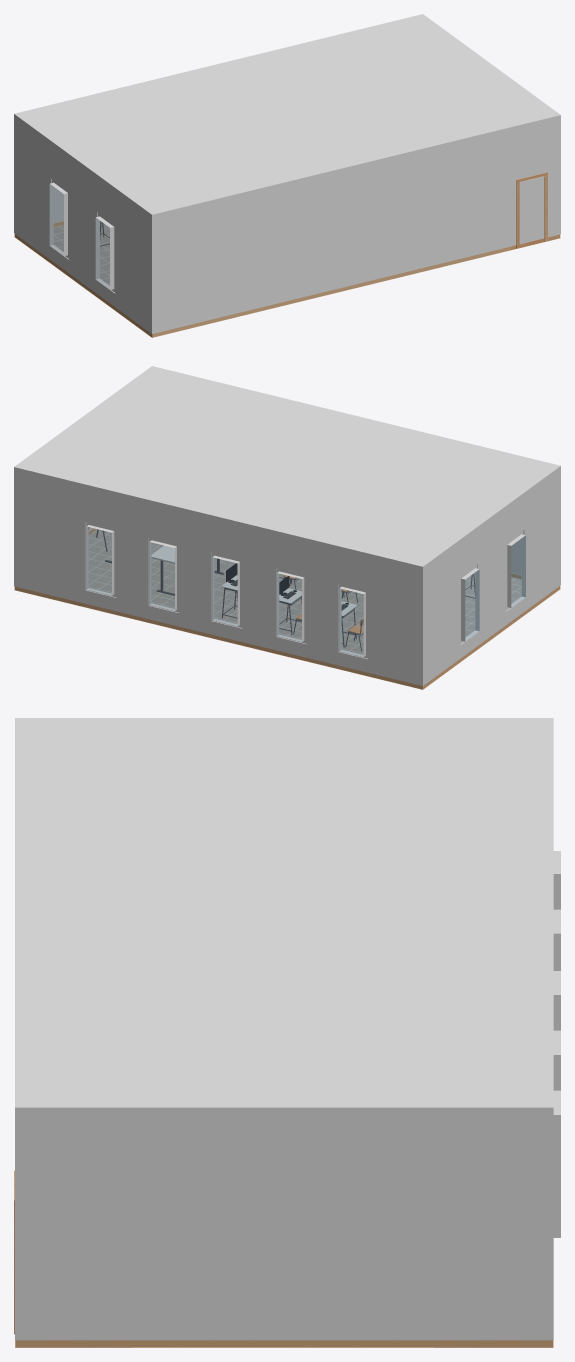
File: laboratorio.glb
3 renders of one model, top to bottom at view 1: azimuth 30°, elevation 25°; view 2: azimuth 150°, elevation 25°; view 3: azimuth 270°, elevation 25°, orthographic. The views are drawn at different scales.
Visible parts, largest first — view 1: Soffitto, Porta, Pareti, Pavimento; view 2: Soffitto, Pareti, Pavimento, Porta, Work_Desk, PC.001; view 3: Soffitto, Porta.
Part boxes in pixels (x1,y1,x2,y2): Soffitto: (14, 14, 560, 333); Porta: (14, 172, 560, 337); Pareti: (50, 184, 109, 289); Pavimento: (53, 221, 109, 285); Soffitto: (14, 366, 560, 685); Pareti: (86, 527, 525, 656); Pavimento: (88, 529, 521, 654); Porta: (14, 528, 560, 689); Work_Desk: (88, 527, 475, 650); PC.001: (226, 563, 348, 610); Soffitto: (15, 718, 560, 1340); Porta: (14, 1170, 553, 1347).
Bounding box in the file's own units: 20.64 × 5.89 × 12.15.
8 materials, 8 textured.
